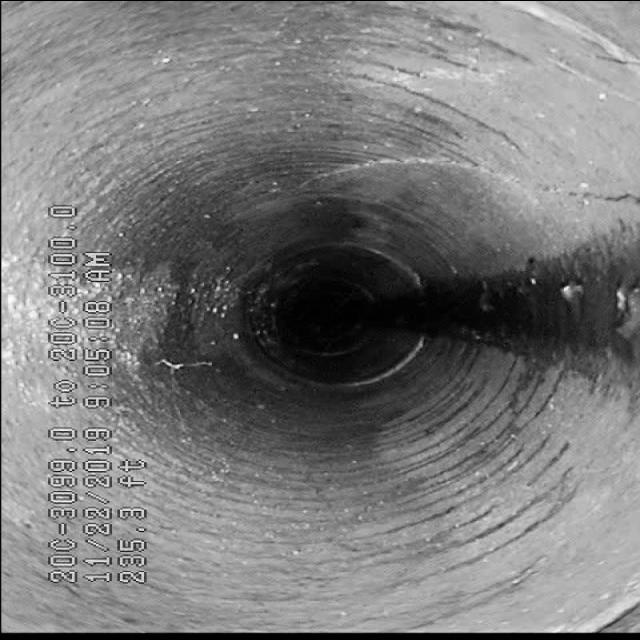Crack: (289, 144, 607, 204)
